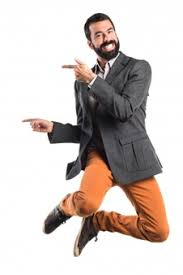hand: (61, 54, 102, 87), (15, 110, 53, 139)
